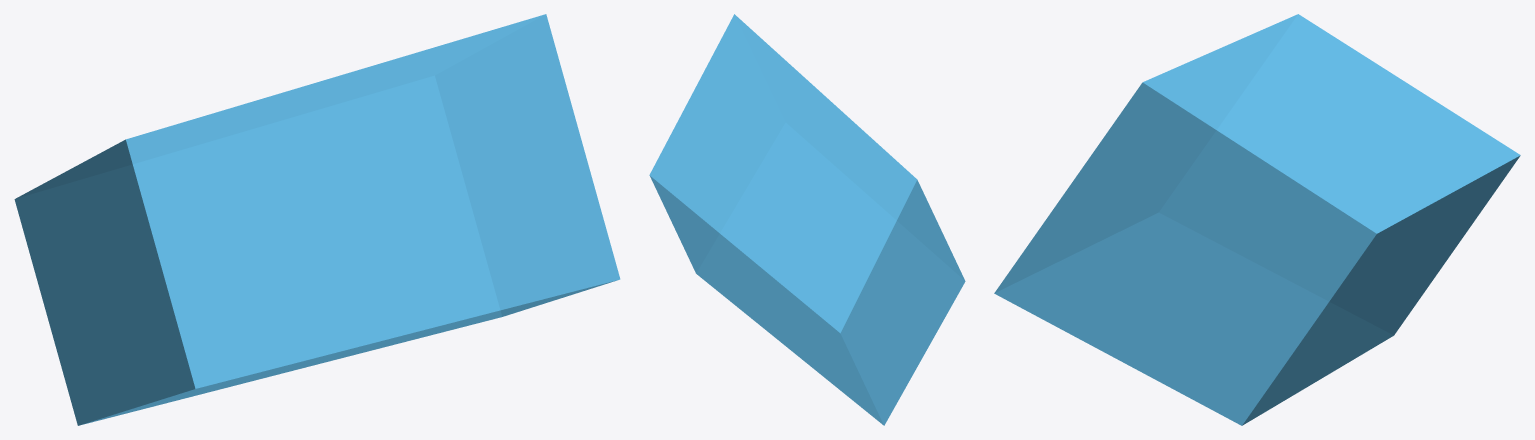
Rendered from Event_421556567_HErechit_55.fbx.
3 views of the same model, side by side, from view 1: azimuth 30°, elevation 25°; view 2: azimuth 150°, elevation 25°; view 3: azimuth 270°, elevation 25° (orthographic). The views are drawn at different scales.
Visible parts, largest first — view 1: Model; view 2: Model; view 3: Model.
Boxes of the visible parts, x1,y1,x2,y2 form: Model: (14, 14, 620, 425); Model: (649, 14, 965, 425); Model: (994, 14, 1520, 425).
Bounding box in the file's own units: 0.7053 × 0.8134 × 0.9236.
